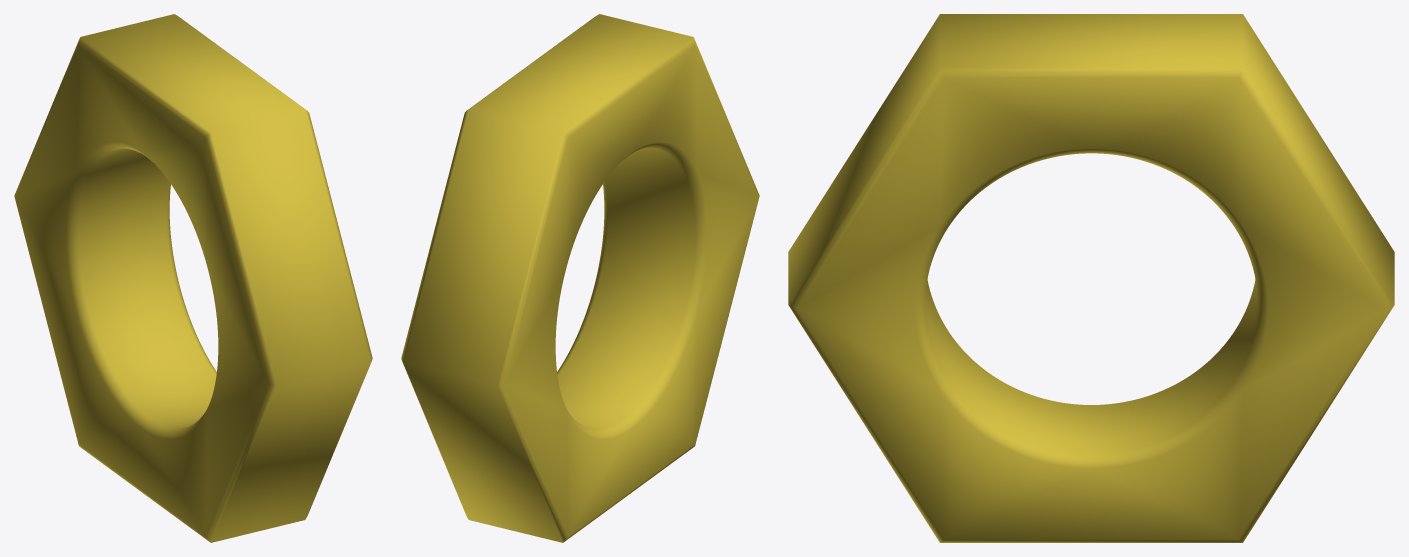
File: Tuerca.fbx
3 views of the same model, side by side, from view 1: azimuth 30°, elevation 25°; view 2: azimuth 150°, elevation 25°; view 3: azimuth 270°, elevation 25° (orthographic). The views are drawn at different scales.
Visible parts, largest first — view 1: Tuerca; view 2: Tuerca; view 3: Tuerca.
Part boxes in pixels (x1=…): Tuerca: x1=14, y1=14, x2=372, y2=542; Tuerca: x1=401, y1=14, x2=759, y2=542; Tuerca: x1=788, y1=14, x2=1394, y2=542.
Bounding box in the file's own units: 1473 × 5573 × 6435.
